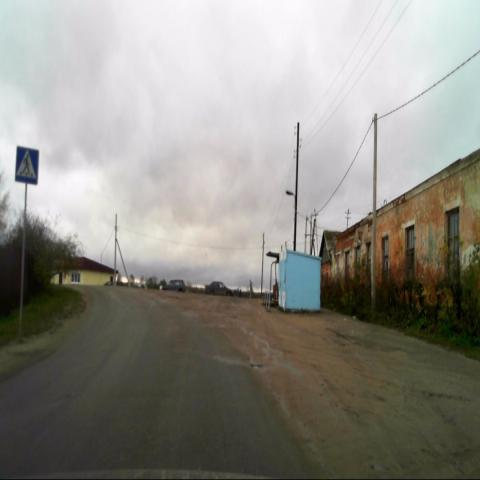5_19_1: (14, 144, 39, 186)
